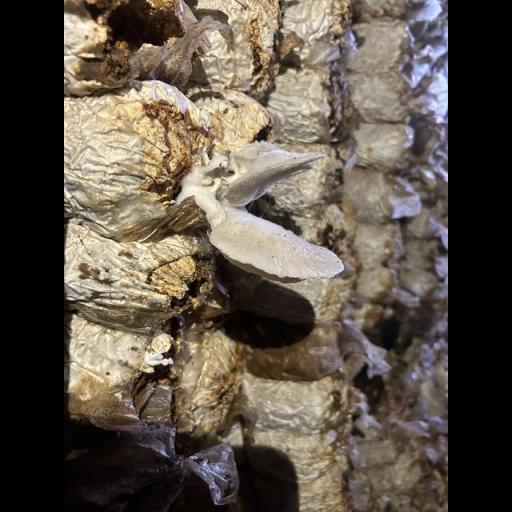White Oyster Mushroom: (174, 162, 350, 295)
